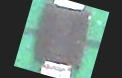diode: (22, 0, 98, 78)
